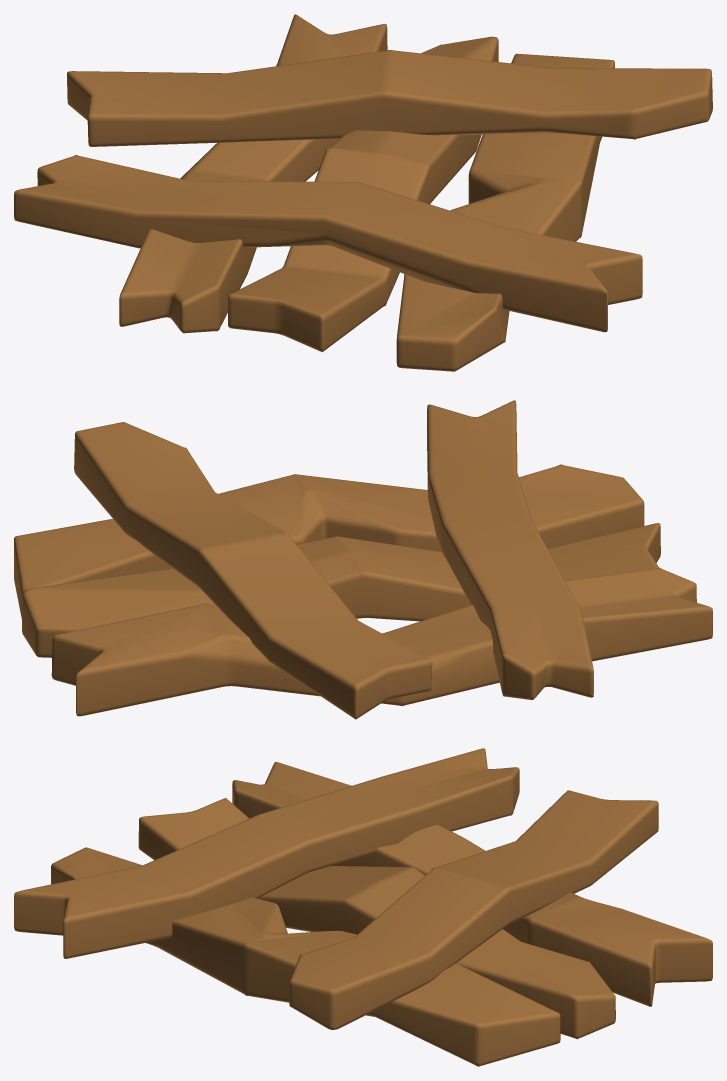
Rendered from Tile_Trap_Planks.fbx.
3 renders of one model, top to bottom at view 1: azimuth 30°, elevation 25°; view 2: azimuth 150°, elevation 25°; view 3: azimuth 270°, elevation 25°, orthographic. The views are drawn at different scales.
Parts seen in each view (by area): view 1: Cube.029; view 2: Cube.029; view 3: Cube.029.
Boxes of the visible parts, <box> form: Cube.029: <box>14,14,712,371</box>; Cube.029: <box>14,400,712,719</box>; Cube.029: <box>14,748,712,1066</box>.
Size of the model in its own units: 188 by 32.33 by 200.
Materials: 1 (1 with a texture image).
